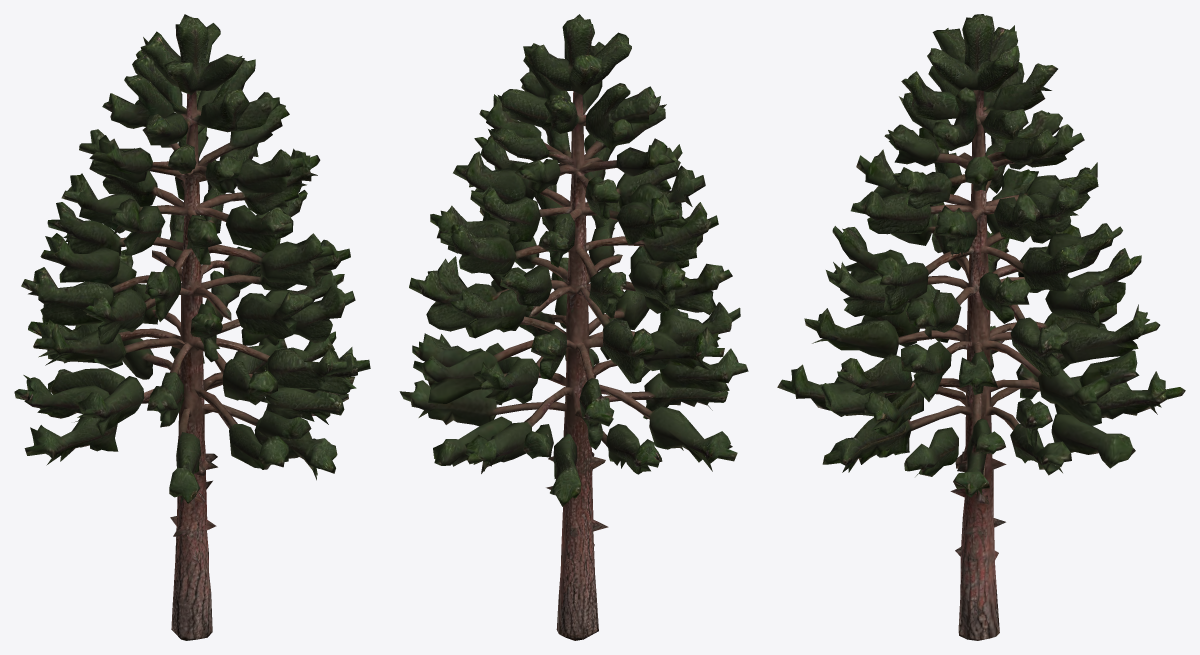
File: pino.glb
3 views of the same model, side by side, from view 1: azimuth 30°, elevation 25°; view 2: azimuth 150°, elevation 25°; view 3: azimuth 270°, elevation 25° (orthographic).
Visible parts, largest first — view 1: tripo_node_0ed67640-d76b-40ea-9c73-8169aa90c2b1; view 2: tripo_node_0ed67640-d76b-40ea-9c73-8169aa90c2b1; view 3: tripo_node_0ed67640-d76b-40ea-9c73-8169aa90c2b1.
Boxes of the visible parts, x1,y1,x2,y2 form: tripo_node_0ed67640-d76b-40ea-9c73-8169aa90c2b1: (14,14,370,640); tripo_node_0ed67640-d76b-40ea-9c73-8169aa90c2b1: (399,14,748,640); tripo_node_0ed67640-d76b-40ea-9c73-8169aa90c2b1: (777,14,1185,640).
Size of the model in its own units: 0.5483 by 1 by 0.5974.
Materials: 1 (1 with a texture image).
